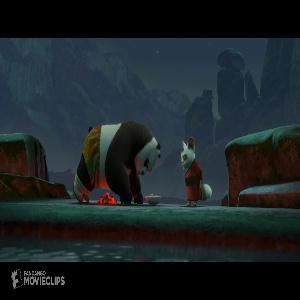po: (72, 120, 164, 206)
shifu: (178, 138, 213, 209)
